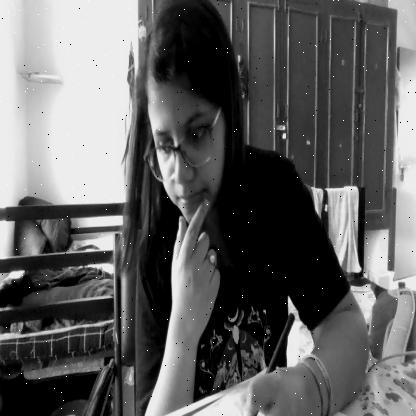Distracted: (134, 0, 258, 240)
